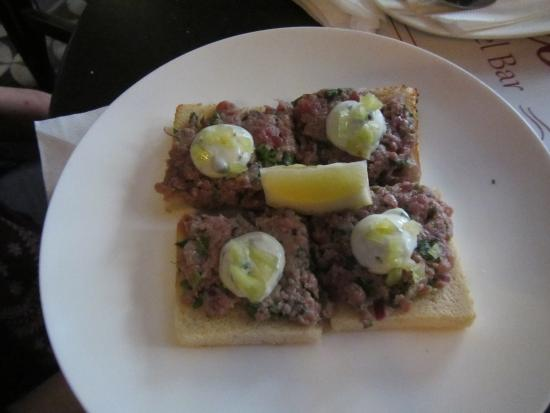ground_beef: (307, 224, 356, 299), (257, 106, 309, 149), (193, 218, 301, 234)
